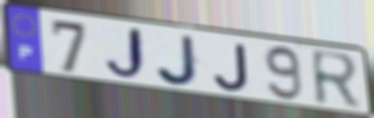7: (48, 17, 91, 76)
9: (264, 44, 306, 104)
J: (102, 25, 149, 83), (154, 33, 203, 88), (212, 42, 252, 94)
R: (308, 47, 364, 113)
